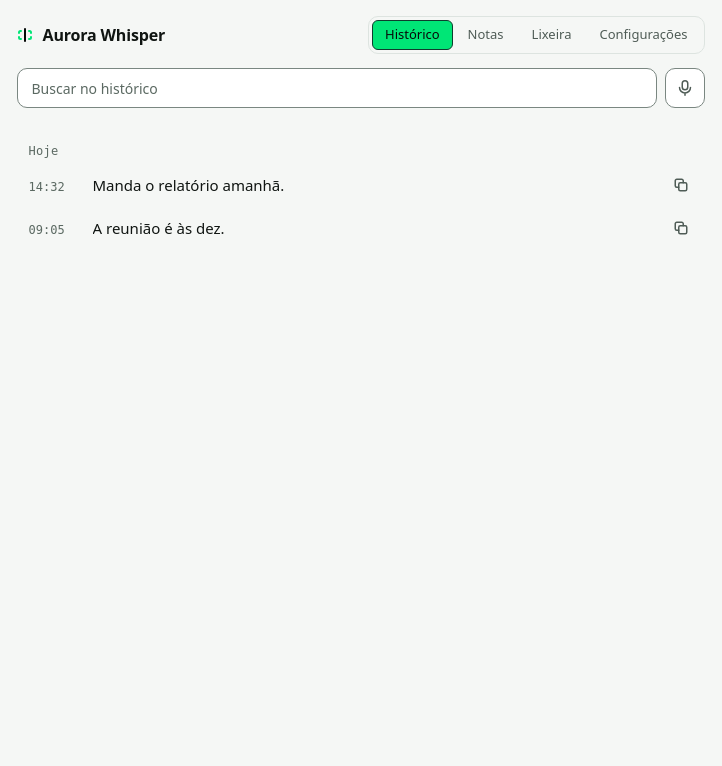
Test case: o ditado que chega › entra no topo do histórico, em destaque, com a etiqueta "novo" e o Copiar da linha
The image size is (722, 766).
Expected: the button "14:32 Manda o relatório amanhã." is shown, [16, 164, 704, 206]
Click the button named "Ditar" at coordinates (684, 88), box [664, 68, 704, 108]
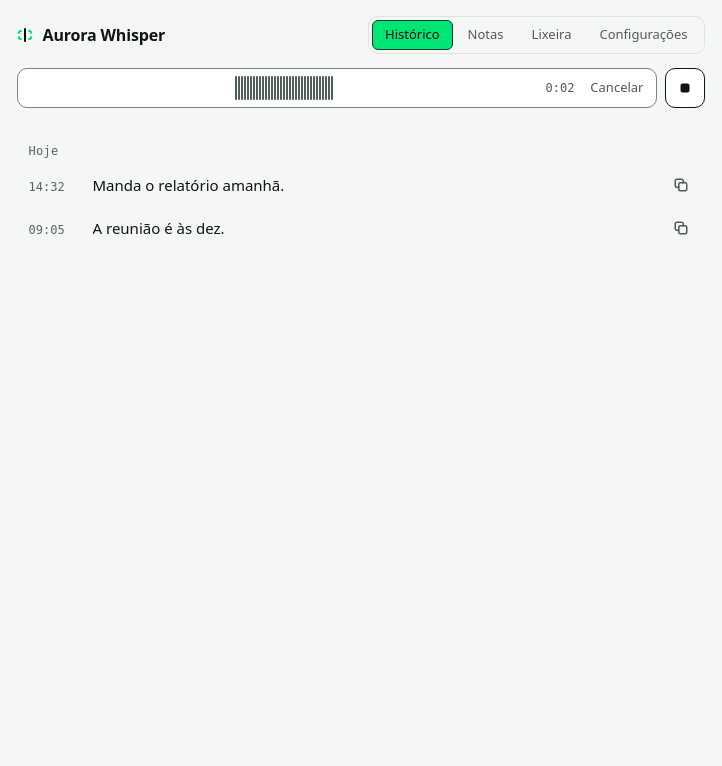
Now the button named "Parar e enviar" is shown
Click the button named "Parar e enviar" at coordinates (684, 88), box [664, 68, 704, 108]
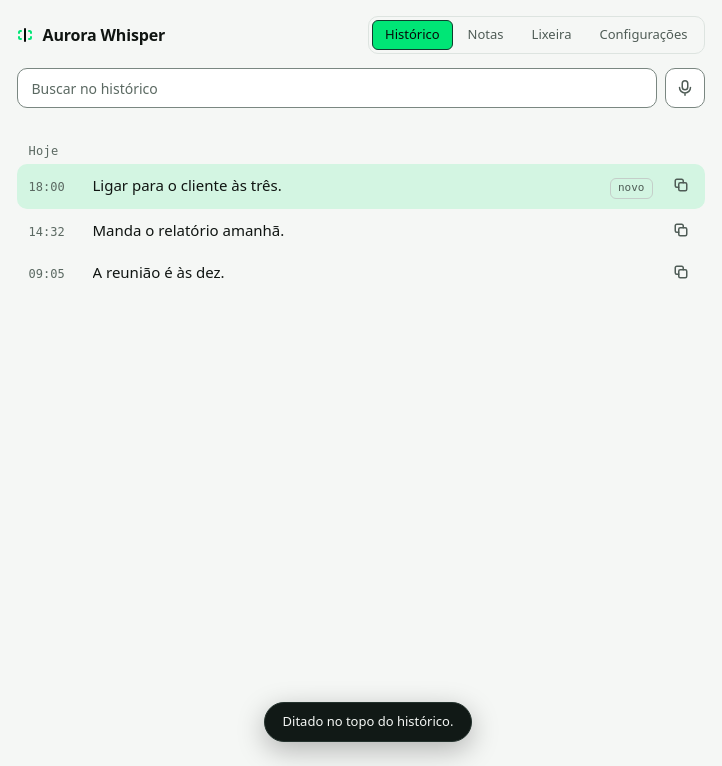
Now the text "Ligar para o cliente às três." is shown, box [92, 175, 282, 195]
Now the list item "18:00 Ligar para o cliente às três. novo" is shown, box [16, 164, 704, 208]
Now the message with class "aviso-regiao" reads "Ditado no topo do histórico.", box [283, 712, 454, 730]
